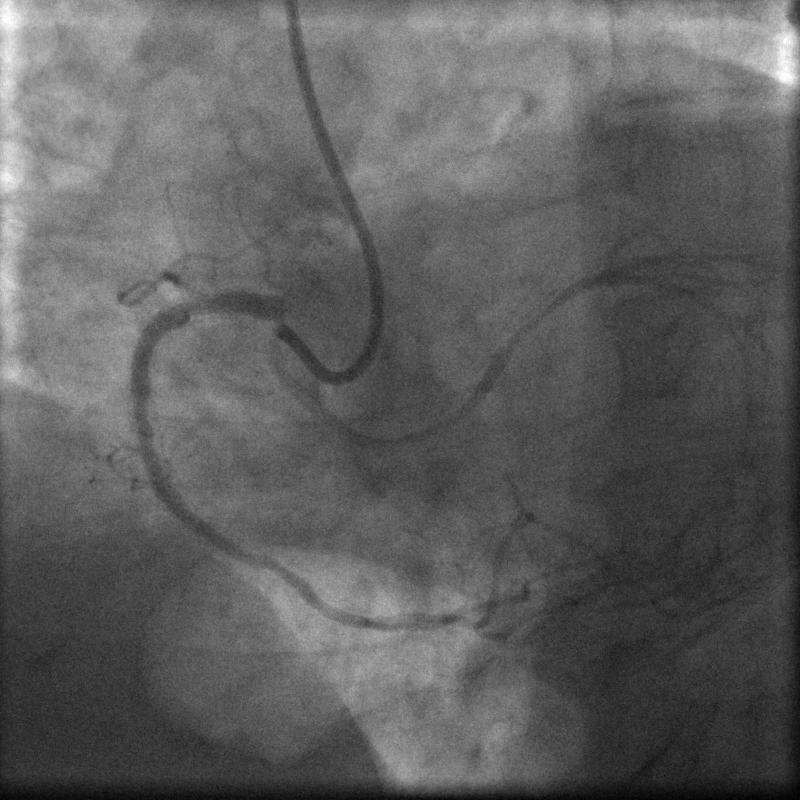Stenosis: (132, 389, 157, 459)
